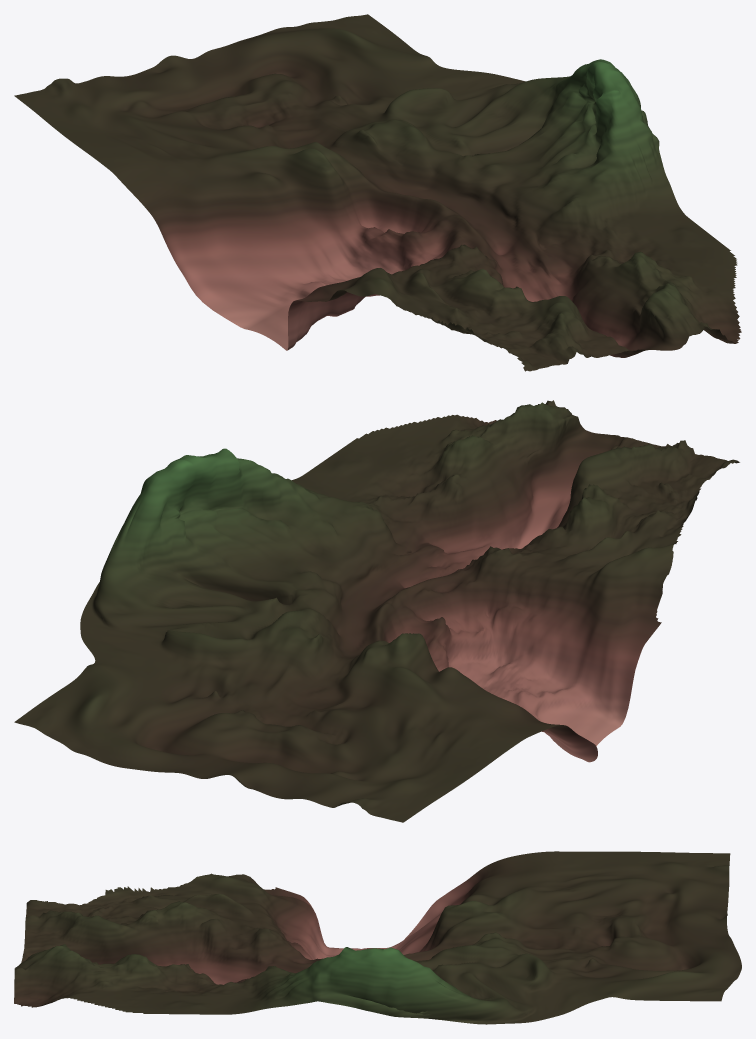
File: montaña02.fbx
The picture shows the model from 3 angles, top to bottom: view 1: azimuth 30°, elevation 25°; view 2: azimuth 150°, elevation 25°; view 3: azimuth 270°, elevation 25°; orthographic projection. The views are drawn at different scales.
Visible parts, largest first — view 1: montaña02; view 2: montaña02; view 3: montaña02.
Part boxes in pixels (x1=…): montaña02: x1=14, y1=14, x2=741, y2=371; montaña02: x1=14, y1=400, x2=739, y2=822; montaña02: x1=14, y1=851, x2=741, y2=1024.
Size of the model in its own units: 576 by 228 by 968.
